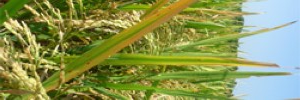RiceTungro: (100, 53, 289, 70), (175, 7, 261, 20), (1, 87, 36, 98)
